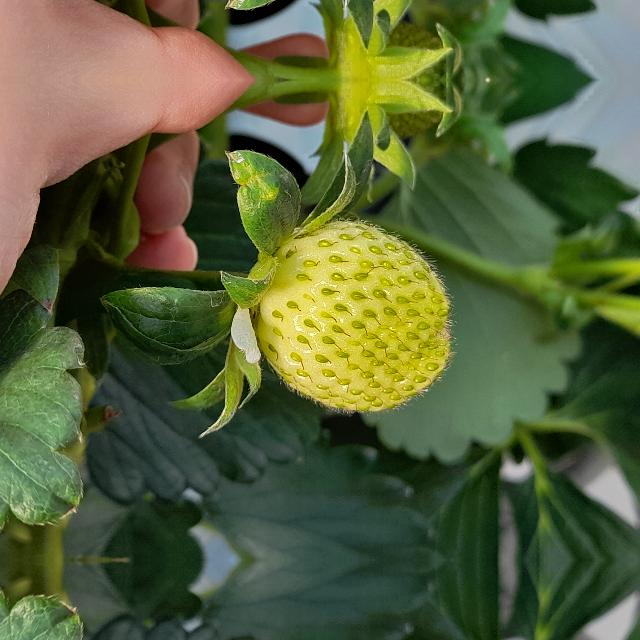Health_25: (256, 216, 457, 417)
